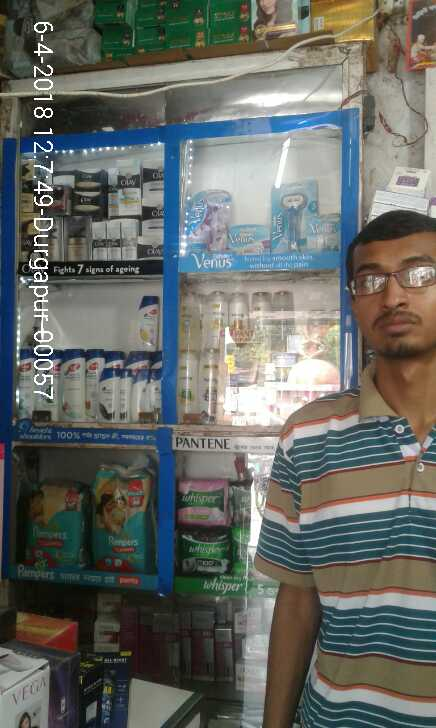venus: (184, 188, 230, 254), (271, 182, 310, 254), (311, 213, 340, 255), (230, 226, 270, 254)
